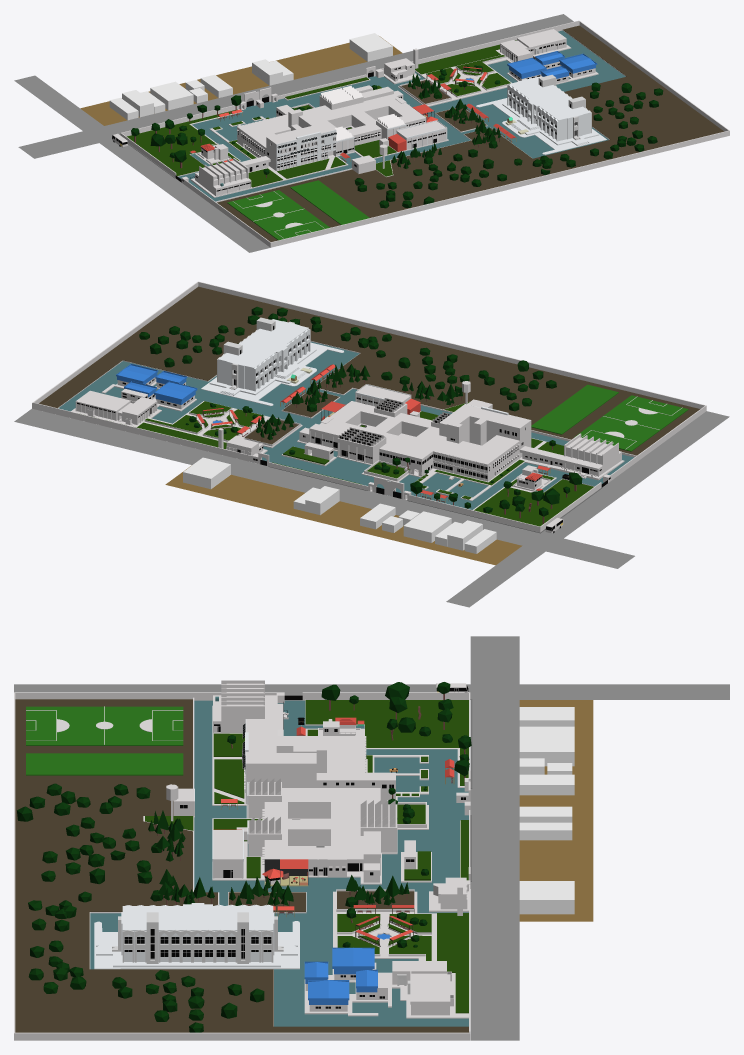
The model's file is messup.glb.
The picture shows the model from 3 angles, top to bottom: view 1: azimuth 30°, elevation 25°; view 2: azimuth 150°, elevation 25°; view 3: azimuth 270°, elevation 25°; orthographic projection. The views are drawn at different scales.
Parts seen in each view (by area): view 1: Cube.028, Cube.504, Cube.145, Cube.014, Cylinder.012, ALGO, Cube.285, Plane.056; view 2: Cube.504, Cube.028, Cube.014, Cube.145, Cylinder.012, ALGO, Plane.056, Cube.285; view 3: Cube.028, Cube.504, Cube.014, Cube.145, Cylinder.012, ALGO, Cube.285, Plane.056.
Part boxes in pixels (x1,y1,x2,y2): Cube.028: [127, 25, 723, 241]; Cube.504: [14, 14, 625, 252]; Cube.145: [120, 20, 729, 247]; Cube.014: [190, 85, 448, 197]; Cylinder.012: [131, 65, 663, 208]; ALGO: [476, 74, 606, 154]; Cube.285: [112, 66, 516, 186]; Plane.056: [182, 41, 592, 191]; Cube.504: [14, 341, 729, 607]; Cube.028: [39, 286, 700, 526]; Cube.014: [281, 384, 624, 500]; Cube.145: [32, 281, 706, 533]; Cylinder.012: [139, 306, 582, 523]; ALGO: [201, 317, 343, 405]; Plane.056: [77, 326, 610, 490]; Cube.285: [196, 364, 607, 533]; Cube.028: [15, 699, 468, 1032]; Cube.504: [14, 636, 729, 1040]; Cube.014: [173, 680, 431, 884]; Cube.145: [14, 692, 472, 1040]; Cylinder.012: [17, 682, 471, 1032]; ALGO: [94, 903, 299, 969]; Cube.285: [166, 683, 468, 946]; Plane.056: [124, 724, 465, 1008].
Size of the model in its own units: 6.31 by 0.3662 by 4.72.
